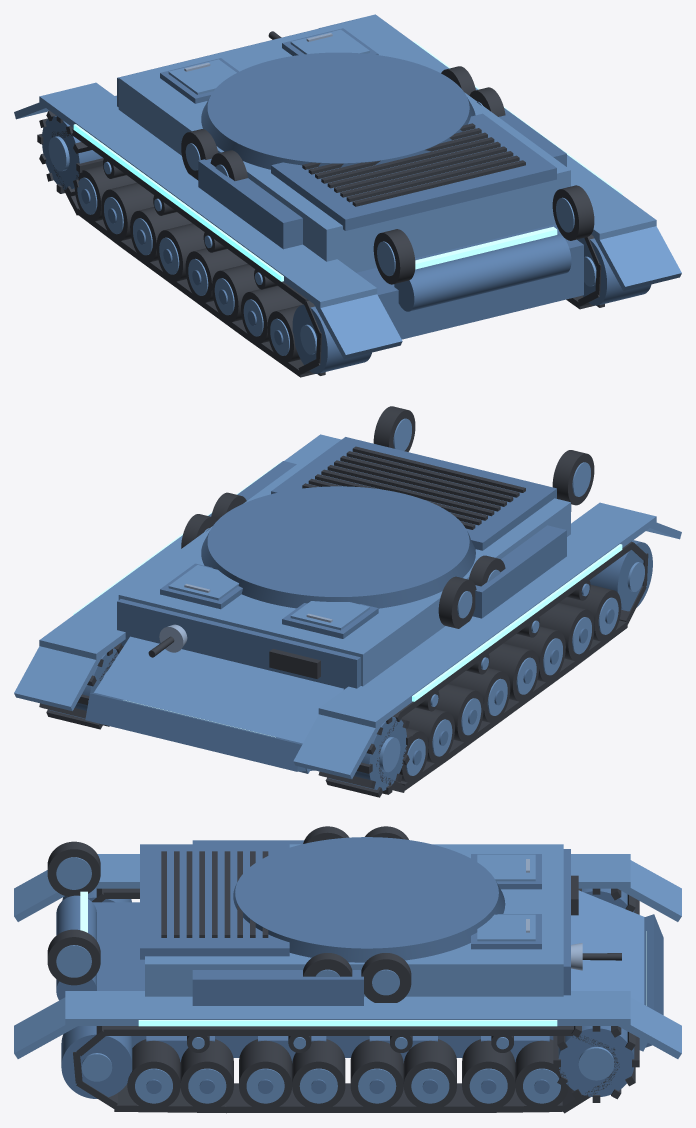
File: Origin_hull.glb
3 views of the same model, one above another, from view 1: azimuth 30°, elevation 25°; view 2: azimuth 150°, elevation 25°; view 3: azimuth 270°, elevation 25° (orthographic).
Parts seen in each view (by area): view 1: Origin_Hull; view 2: Origin_Hull; view 3: Origin_Hull.
Part boxes in pixels (x1,y1,x2,y2): Origin_Hull: (14,14,681,377); Origin_Hull: (14,406,681,797); Origin_Hull: (14,826,681,1113).
Size of the model in its own units: 3.12 by 1.29 by 5.27.
